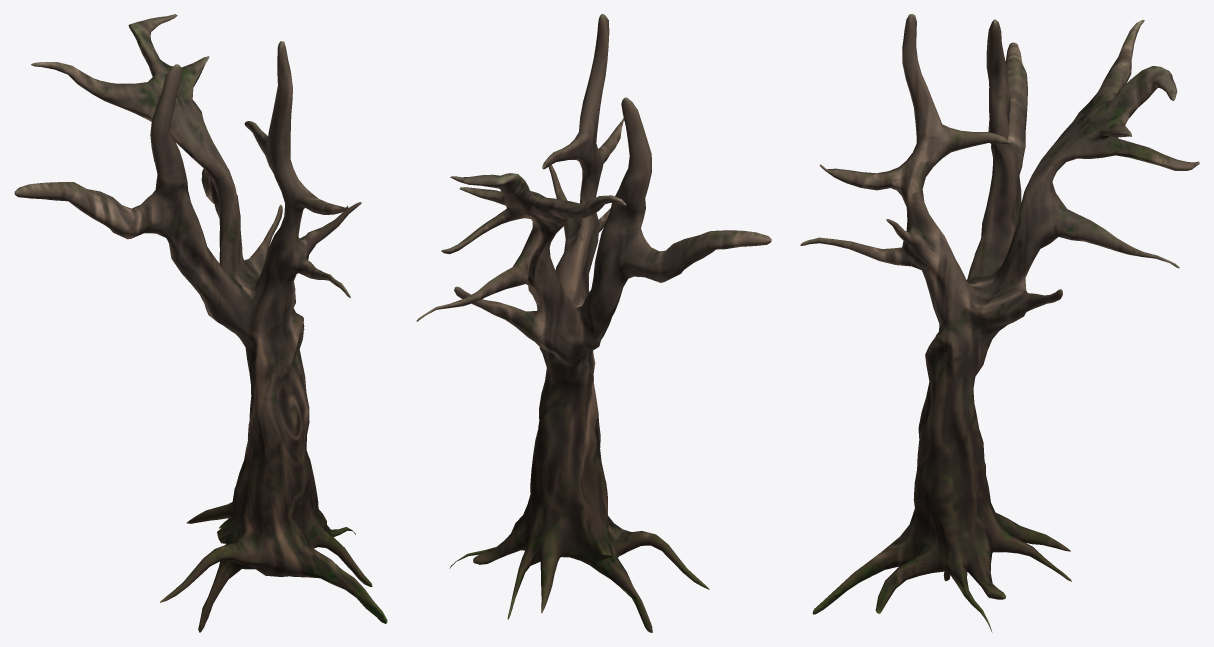
Rendered from Tree_Root_V1.fbx.
3 renders of one model, left to right at view 1: azimuth 30°, elevation 25°; view 2: azimuth 150°, elevation 25°; view 3: azimuth 270°, elevation 25°, orthographic. The views are drawn at different scales.
Visible parts, largest first — view 1: Tree_Root_V1_LOD0; view 2: Tree_Root_V1_LOD0; view 3: Tree_Root_V1_LOD0.
Boxes of the visible parts, x1=… form: Tree_Root_V1_LOD0: x1=14, y1=14, x2=387, y2=632; Tree_Root_V1_LOD0: x1=416, y1=14, x2=771, y2=632; Tree_Root_V1_LOD0: x1=800, y1=14, x2=1199, y2=632.
Size of what is drawn, in the model's own units: 908 by 1540 by 930.
